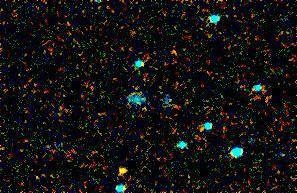star: (106, 155, 136, 185)
